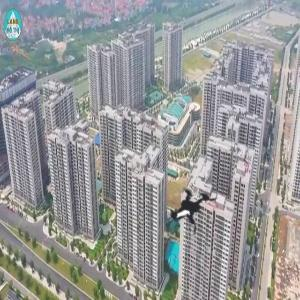drone: (142, 157, 238, 253)
